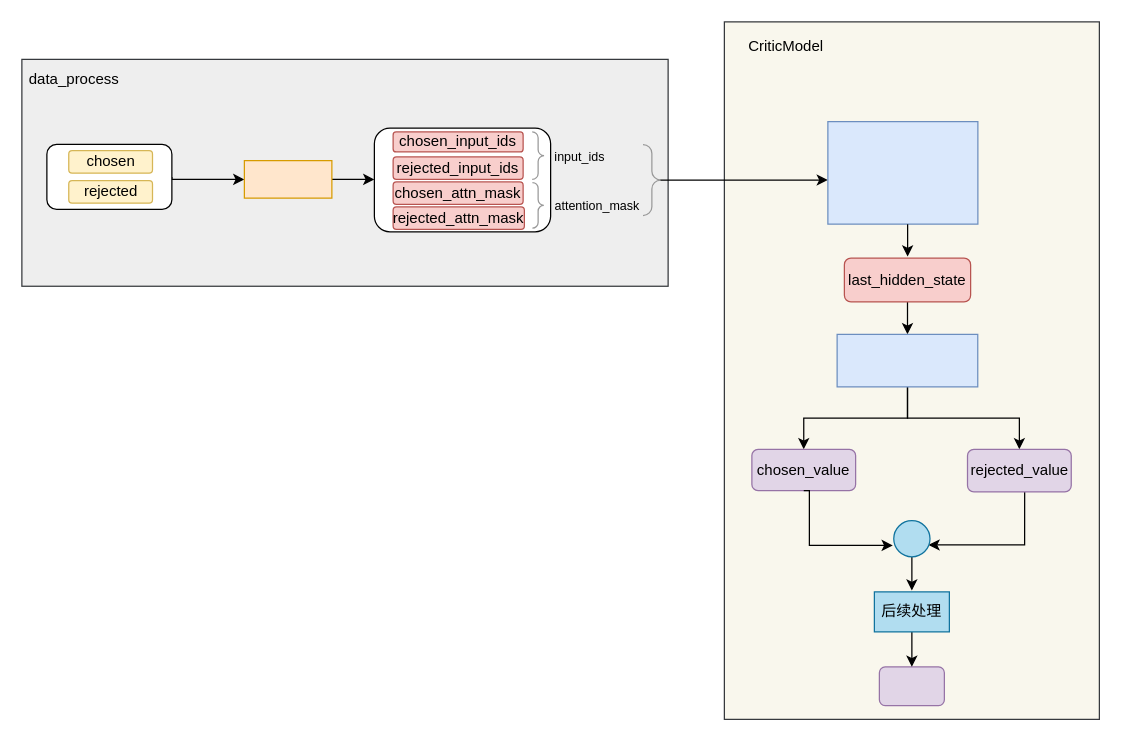
This 1121x741 diagram has some shape labels left out. The shapes that lost their labels are listed below. From the top down, each one's centre as x and y in pixels, then its label:
At point (287, 178): "Tokenizer".
At point (902, 172): "LLM".
At point (907, 360): "Linear".
At point (911, 538): "差值".
At point (911, 686): "loss_sum".
